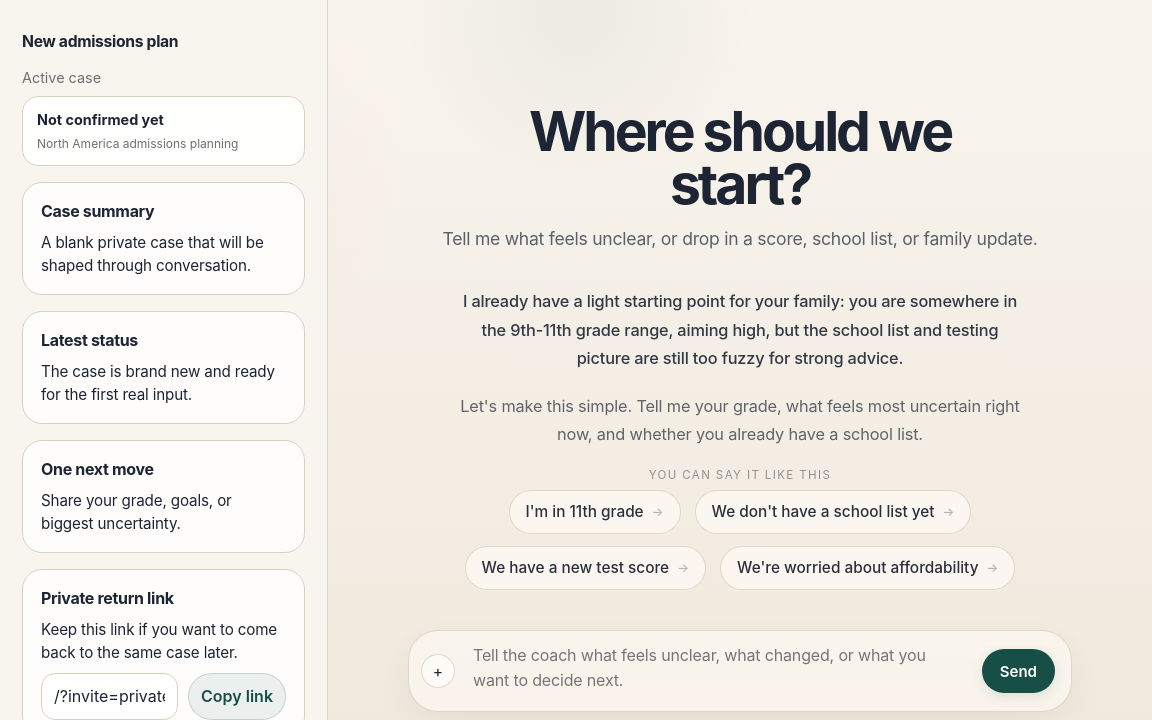
it: CoachShell › shows a stable user-facing error when the conversation endpoint returns a non-json failure
expect the heading "Where should we start?" is shown: met, box x1=498 y1=104 x2=982 y2=210
Click the button "I'm in 11th grade": (594, 512) x1=508 y1=490 x2=680 y2=534
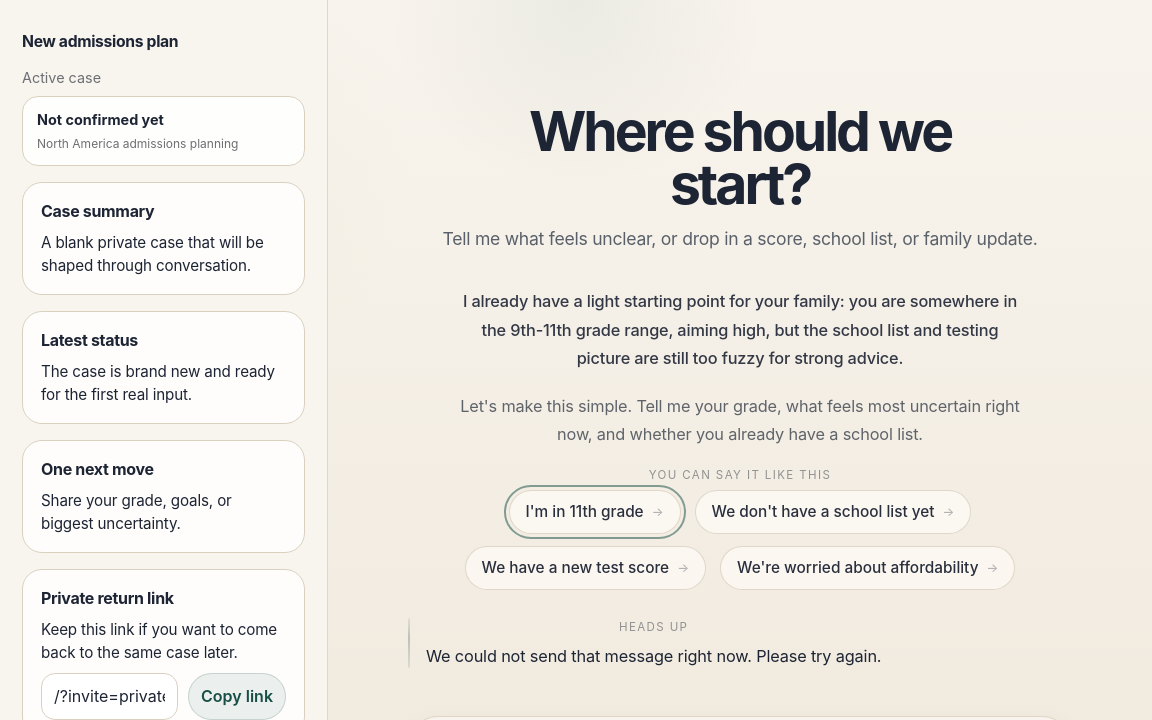
expect the text "We could not send that message right now. Please try again." is shown: met, box x1=426 y1=642 x2=881 y2=670
